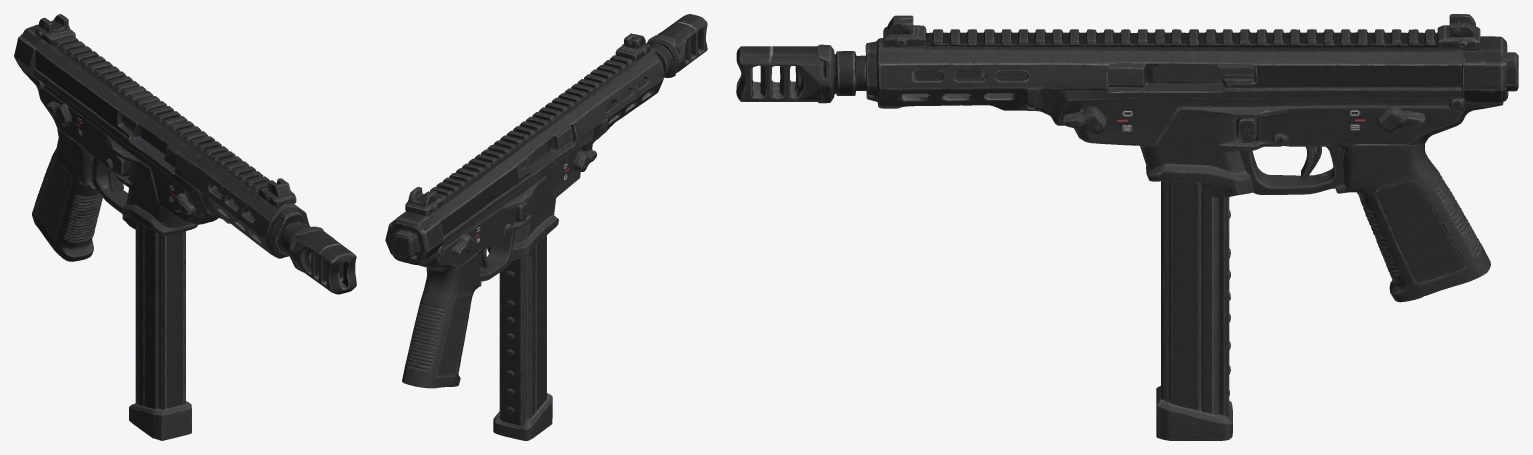
The model's file is machine_pistol_mod.high.glb.
3 views of the same model, side by side, from view 1: azimuth 30°, elevation 25°; view 2: azimuth 150°, elevation 25°; view 3: azimuth 270°, elevation 25° (orthographic). The views are drawn at different scales.
Visible parts, largest first — view 1: model; view 2: model; view 3: model.
Part boxes in pixels (bbox=[...]): model: bbox=[14, 14, 356, 440]; model: bbox=[385, 14, 707, 440]; model: bbox=[736, 14, 1518, 440].
Bounding box in the file's own units: 0.0317 × 0.1865 × 0.3202.
Materials: 1 (1 with a texture image).
